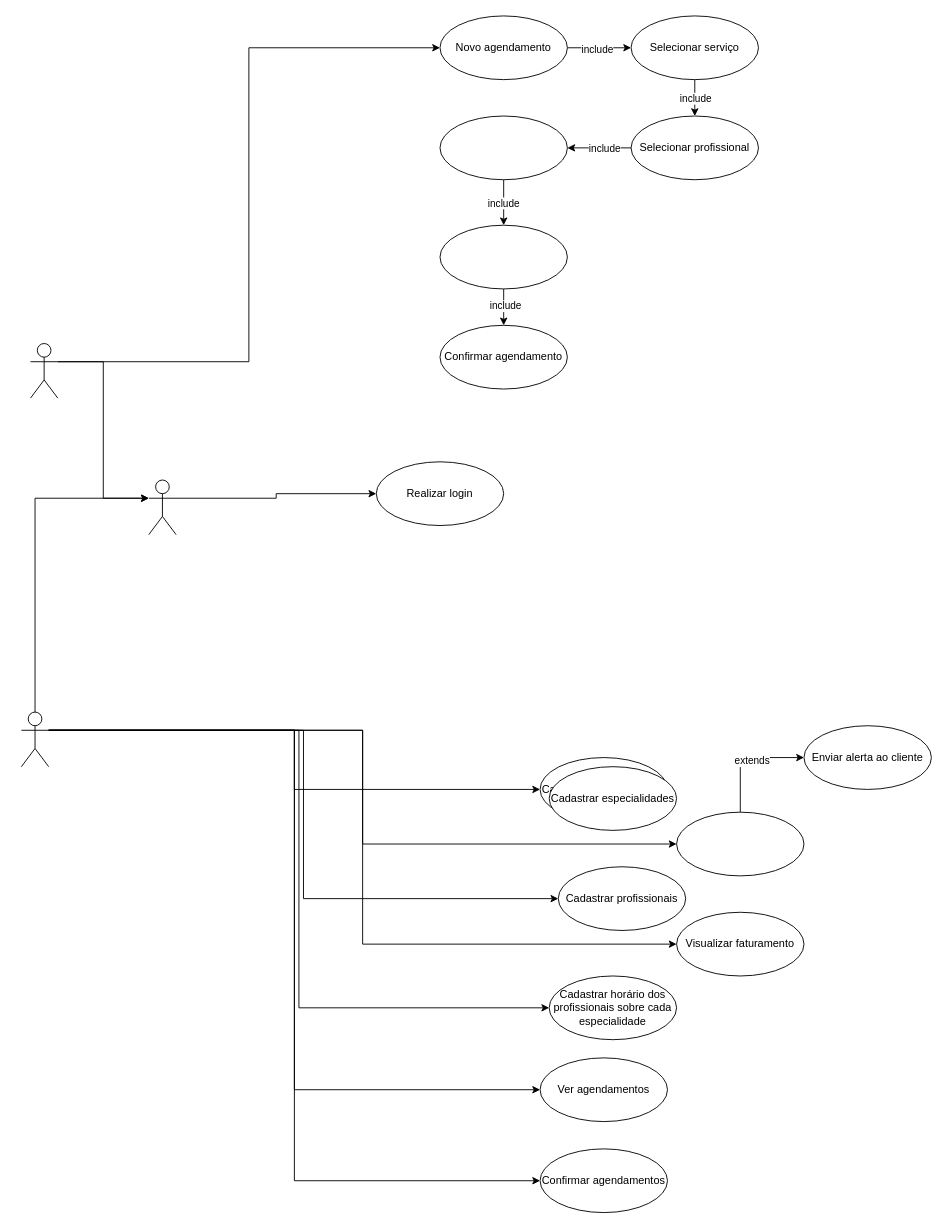
Image size: 947x1229. Some labels were removed from this diagram. Each missing label, with the box of its shape:
Cliente: (30, 343, 58, 398)
Desmarcar agendamentos: (676, 811, 804, 876)
Gerente: (20, 711, 49, 767)
Selecionar data: (439, 115, 567, 180)
Selecionar horário: (439, 224, 567, 289)
Usuário: (148, 479, 176, 535)
